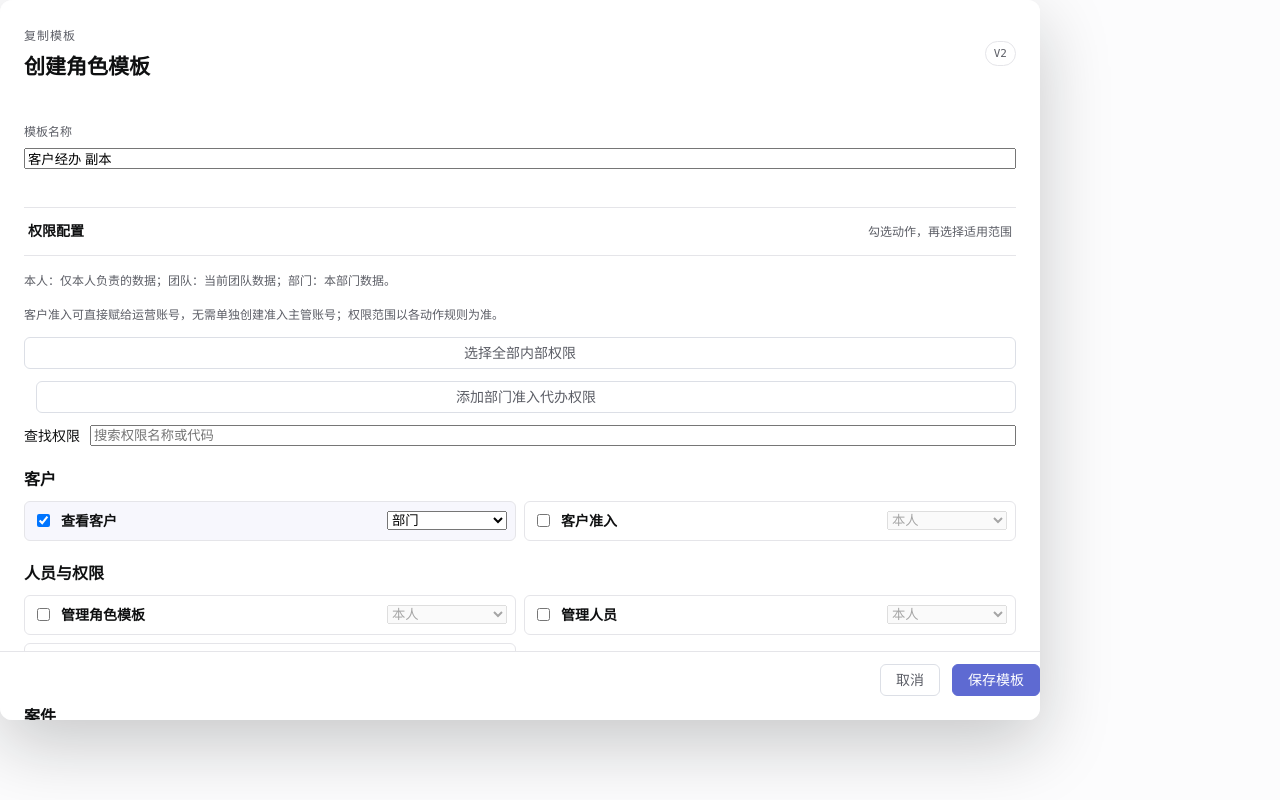
RoleTemplateEditor › requires at least one selected Grant
Click the checkbox with test id "grant-CUSTOMER_READ". click: x=44, y=521
box: left=37, top=514, right=50, bottom=527
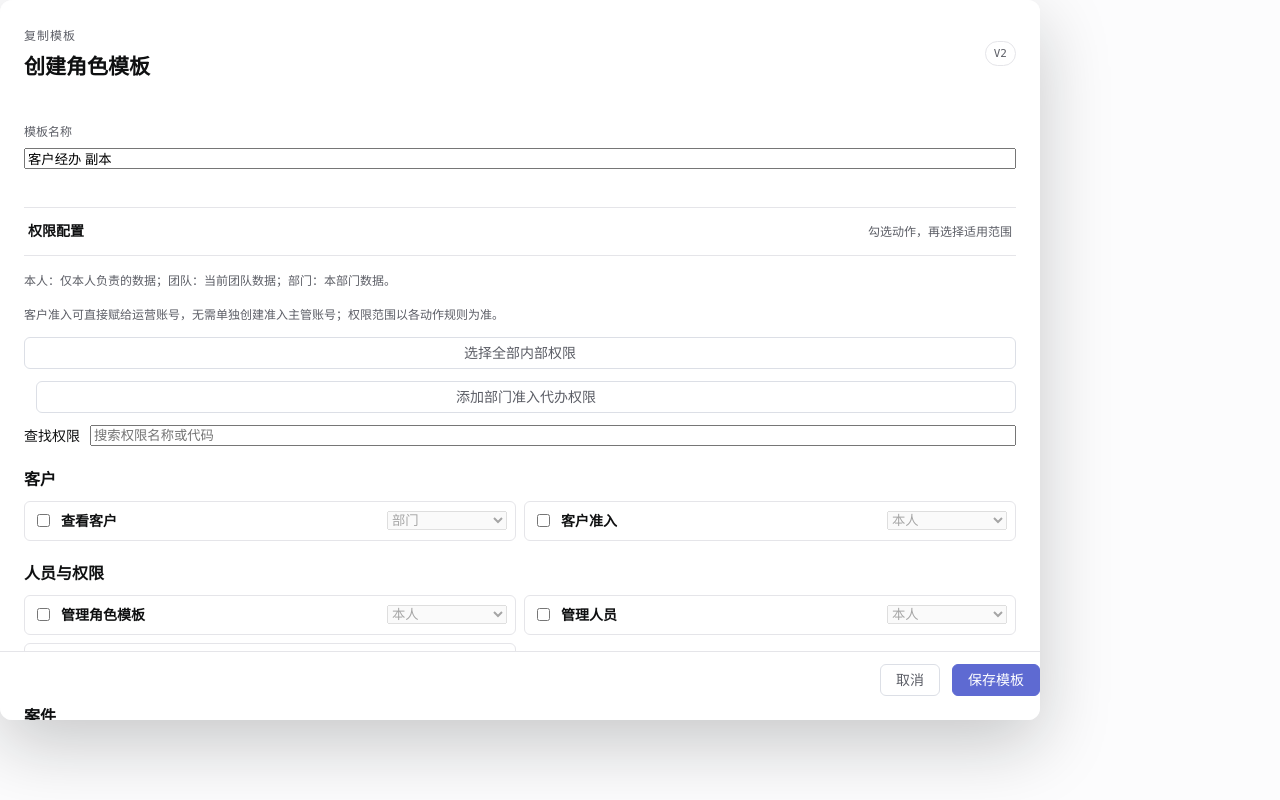
Click the button with test id "role-template-save". click: x=996, y=680
box: left=952, top=664, right=1040, bottom=696
(page scrolled)
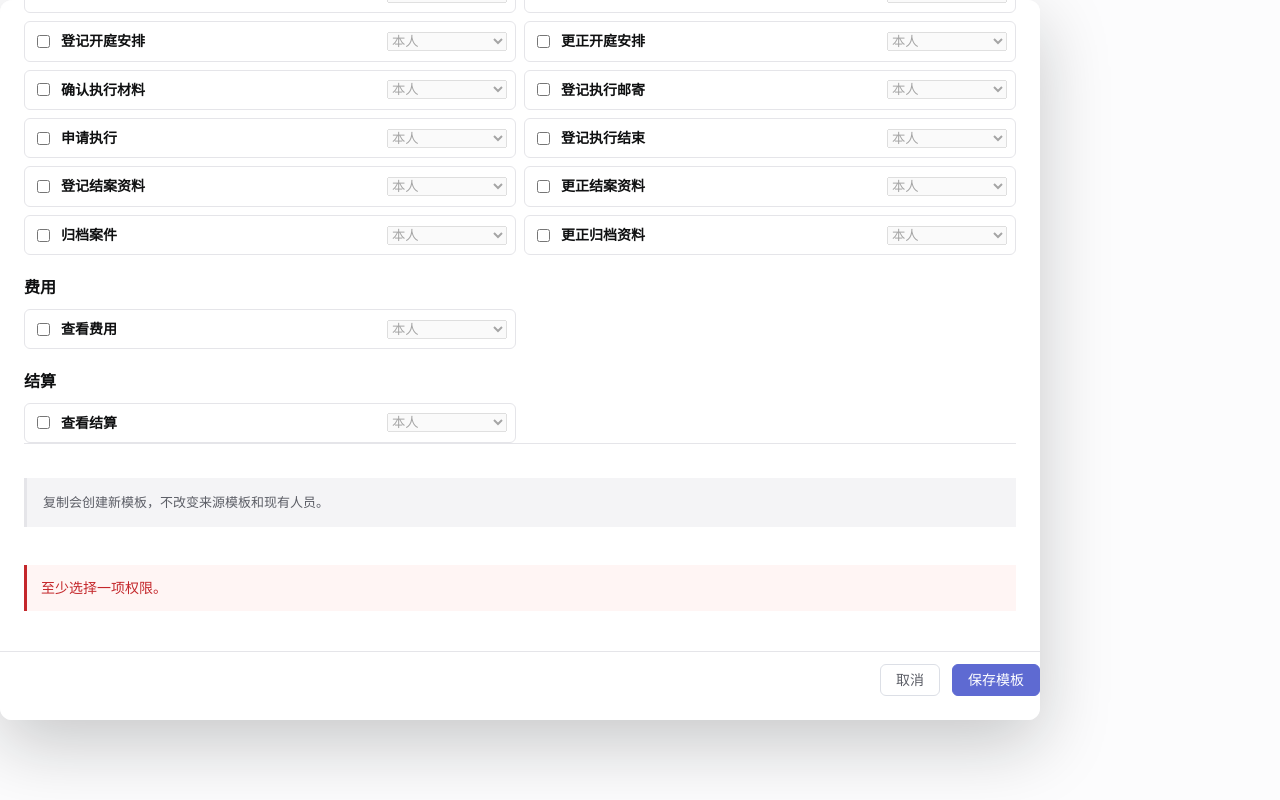
Result: the message "至少选择一项权限。" is shown at left=24, top=565, right=1016, bottom=611
